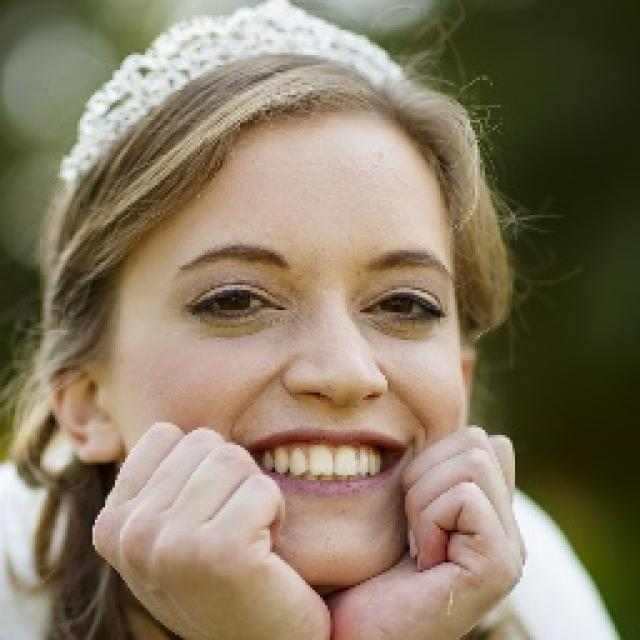earlobe: (80, 418, 122, 463)
eye: (198, 284, 275, 318), (359, 292, 439, 324)
nose: (292, 388, 381, 430)
wholeear: (37, 328, 122, 463)
